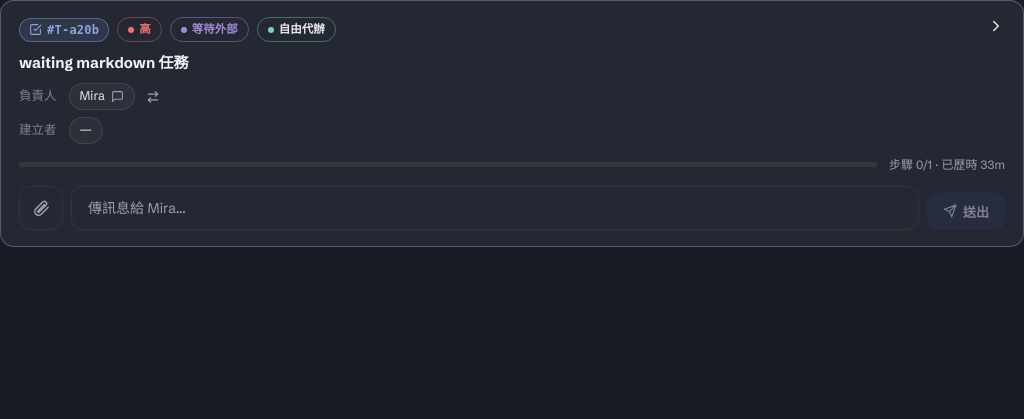
Test: step 等待外部 reason markdown render (T-a20b shapes, T-c514 surface) › renders the reason's bold + inline code as elements — the exact shapes from owner's screenshot
Click the button with test id "task-card": (512, 232) [0,0,1023,247]
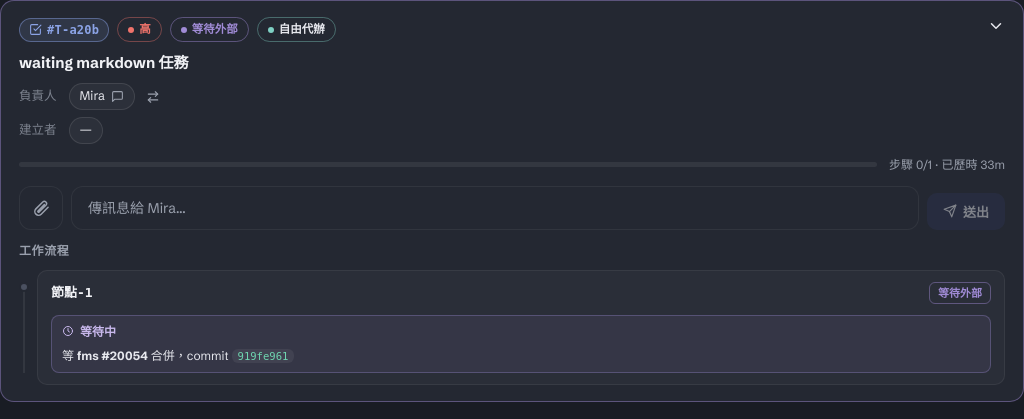
Check: the text with class "task-step__waiting-label" reads "等待中", box [80,324,116,339]
Check: the text "fms #20054" is shown, box [77,348,148,363]
Check: the text "919fe961" is shown, box [232,349,294,363]
